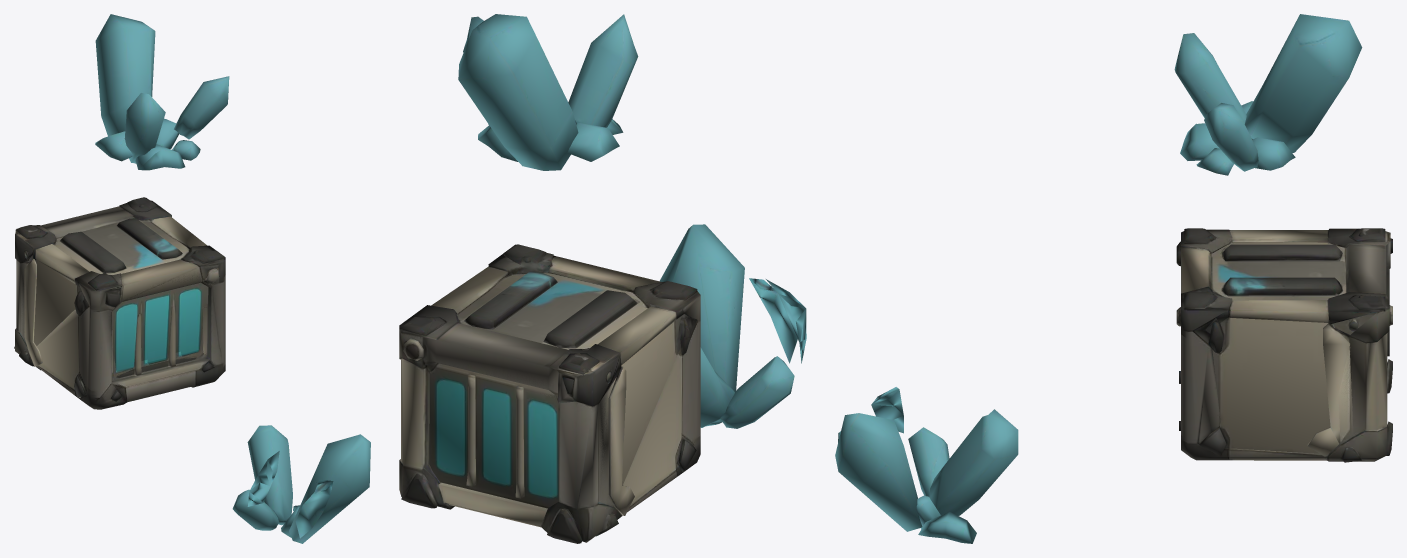
The model's file is energy-crate.glb.
3 views of the same model, side by side, from view 1: azimuth 30°, elevation 25°; view 2: azimuth 150°, elevation 25°; view 3: azimuth 270°, elevation 25° (orthographic). The views are drawn at different scales.
Visible parts, largest first — view 1: energy-crate; view 2: energy-crate; view 3: energy-crate.
Boxes of the visible parts, left/top/right/bottom form: energy-crate: left=14, top=14, right=370, bottom=543; energy-crate: left=399, top=14, right=806, bottom=543; energy-crate: left=835, top=14, right=1392, bottom=543.
Size of the model in its own units: 0.4012 by 1 by 1.
Materials: 1 (1 with a texture image).
